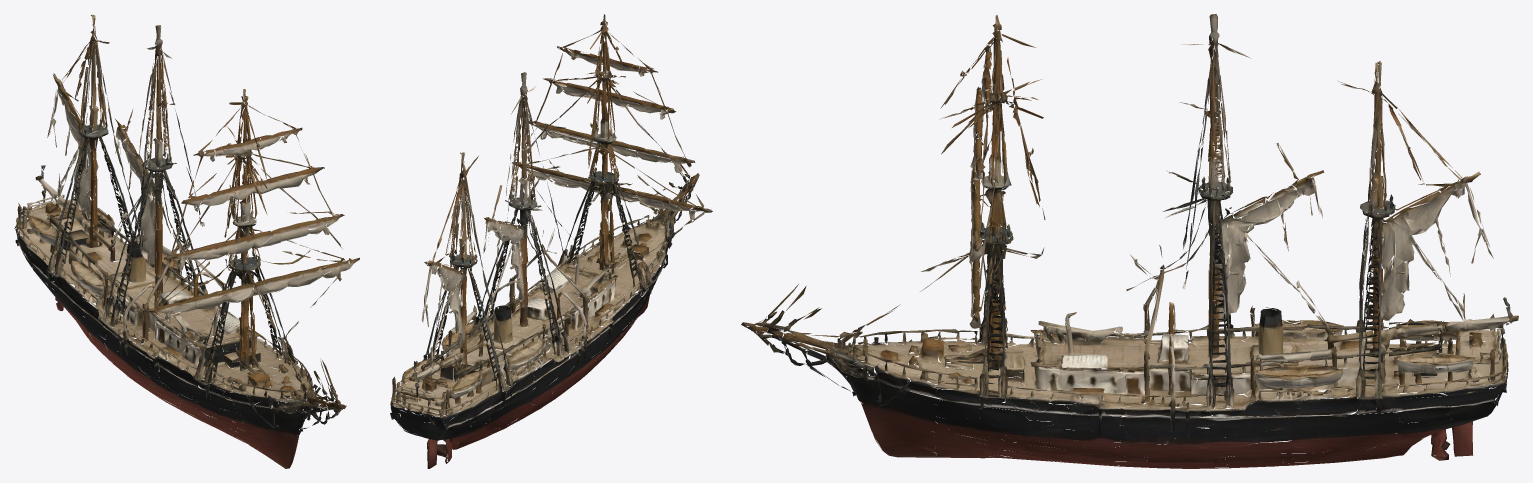
The model's file is endurance.glb.
The picture shows the model from 3 angles, left to right: view 1: azimuth 30°, elevation 25°; view 2: azimuth 150°, elevation 25°; view 3: azimuth 270°, elevation 25°; orthographic projection. The views are drawn at different scales.
Parts seen in each view (by area): view 1: tripo_node_18875671-326d-43c9-bfbd-1792c38e3c4a; view 2: tripo_node_18875671-326d-43c9-bfbd-1792c38e3c4a; view 3: tripo_node_18875671-326d-43c9-bfbd-1792c38e3c4a.
Boxes of the visible parts, left/top/right/bottom form: tripo_node_18875671-326d-43c9-bfbd-1792c38e3c4a: left=14, top=14, right=359, bottom=468; tripo_node_18875671-326d-43c9-bfbd-1792c38e3c4a: left=390, top=14, right=712, bottom=468; tripo_node_18875671-326d-43c9-bfbd-1792c38e3c4a: left=741, top=14, right=1518, bottom=468.
Bounding box in the file's own units: 0.3995 × 0.6213 × 0.9864.
Materials: 1 (1 with a texture image).
